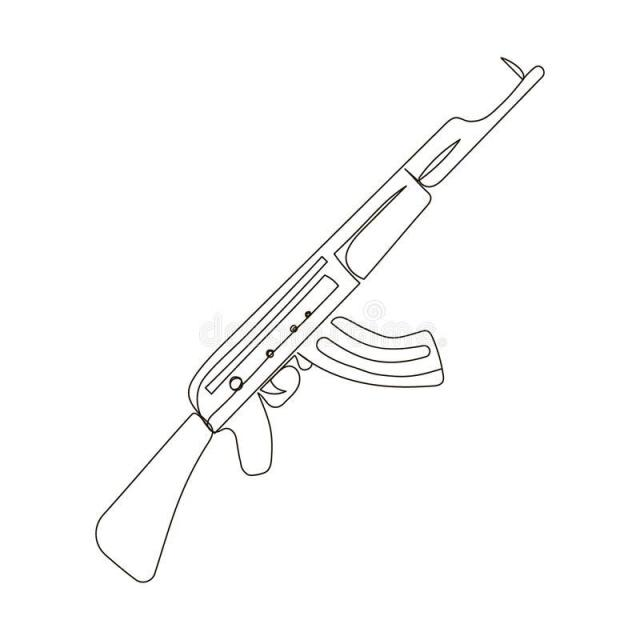weapon: (83, 52, 560, 593)
